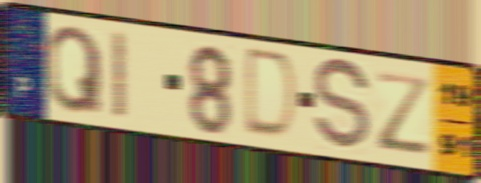8: (185, 40, 234, 136)
D: (241, 44, 302, 145)
I: (110, 28, 130, 123)
Q: (45, 23, 105, 117)
S: (311, 56, 373, 156)
Z: (372, 68, 434, 158)
